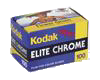grozi_114: (9, 6, 90, 72)
